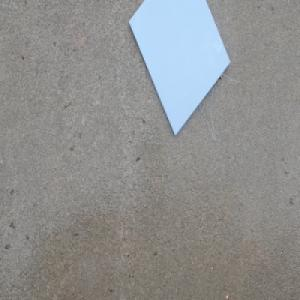PaintChip: (126, 0, 230, 139)
